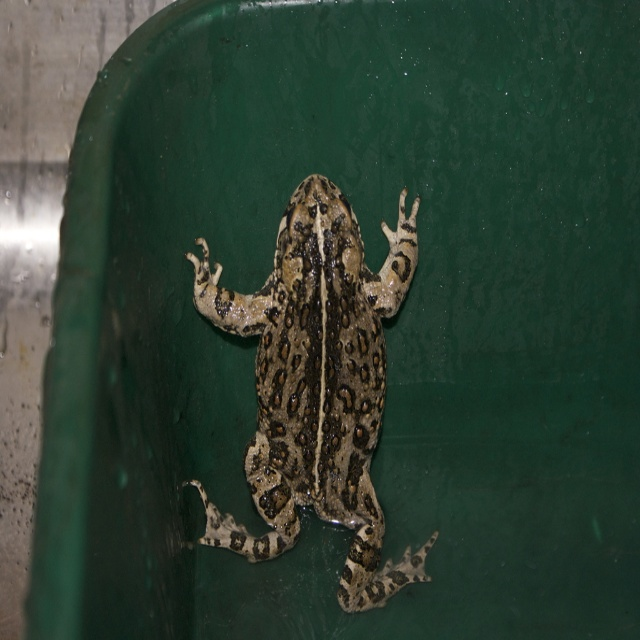Frog: (183, 172, 437, 611)
